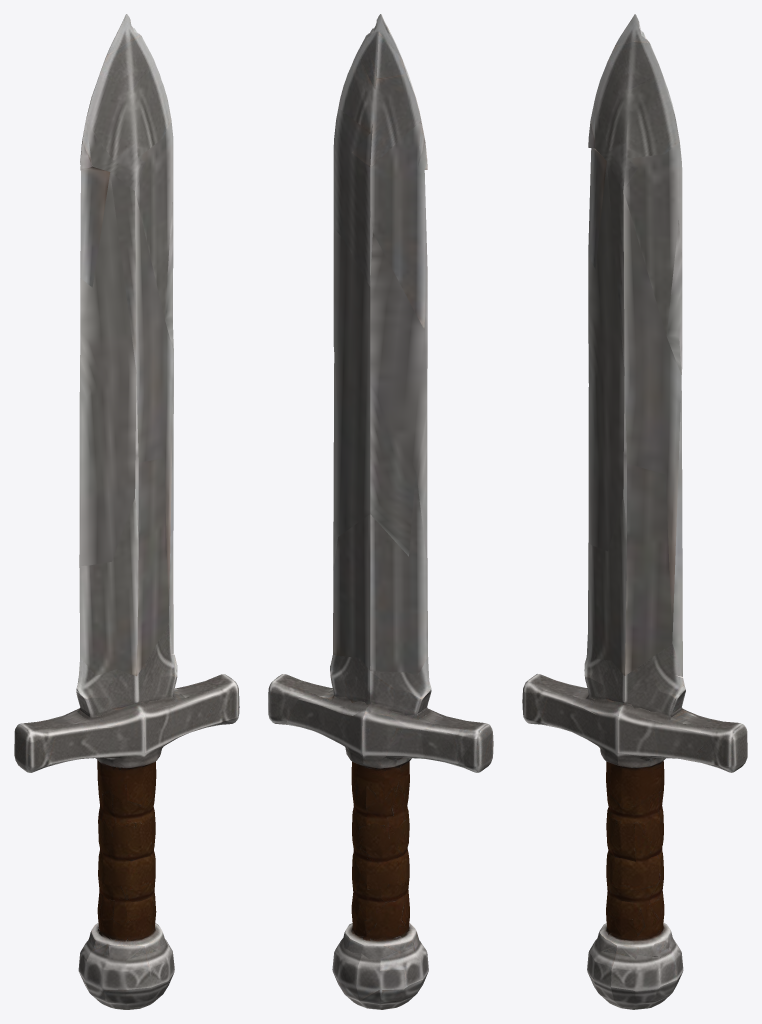
File: squire_sword.glb
3 renders of one model, left to right at view 1: azimuth 30°, elevation 25°; view 2: azimuth 150°, elevation 25°; view 3: azimuth 330°, elevation 25°, orthographic.
Size of the model in its own units: 0.4033 by 1.78 by 0.159.
1 material, 1 textured.
